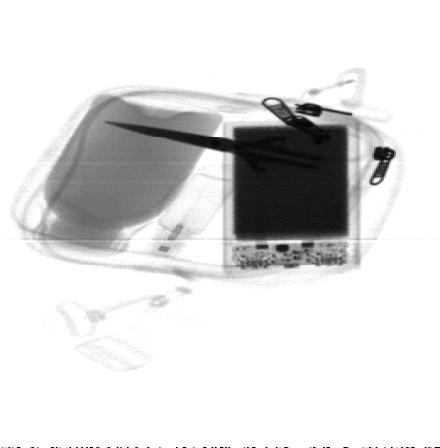Powerbank: (224, 117, 362, 274)
Scissors: (105, 121, 379, 200)
